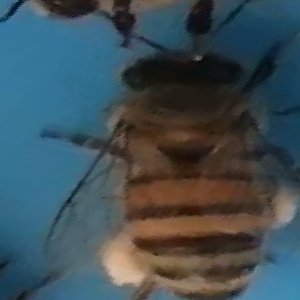bee: (63, 43, 297, 300)
